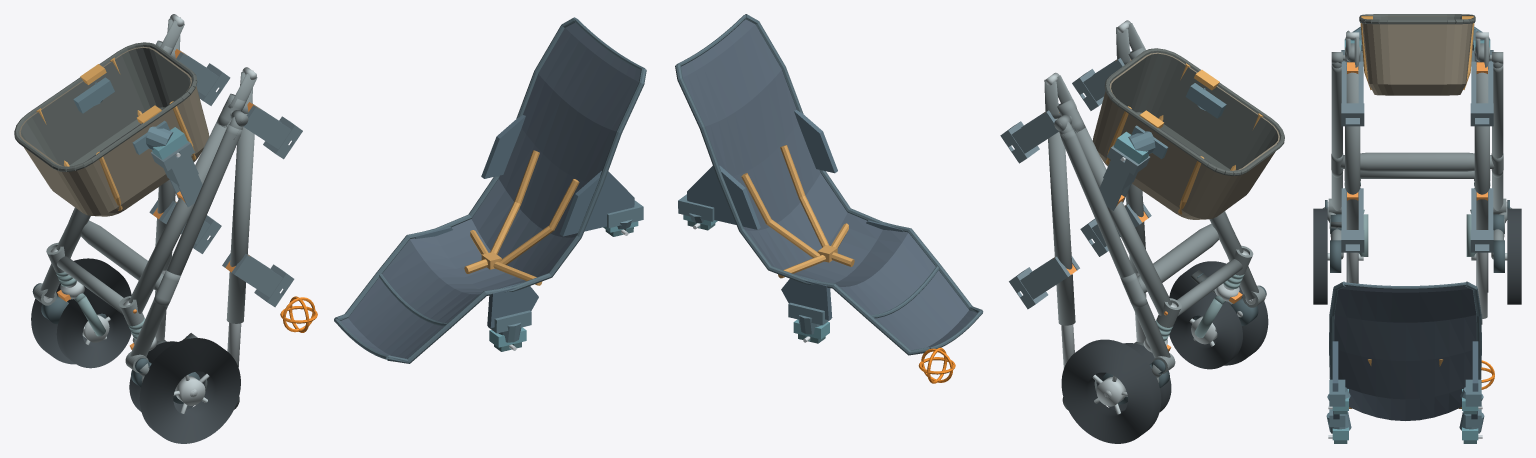
The model's file is D34_w380_state3_wheel_S.glb.
3 renders of one model, left to right at view 1: azimuth 30°, elevation 25°; view 2: azimuth 150°, elevation 25°; view 3: azimuth 270°, elevation 25°, orthographic. The views are drawn at different scales.
Parts seen in each view (by area): view 1: D34_Upper, D34_Lower, RL_tire.013, V46_rear_leg_-1, FR_tire.013, main_upper_-1.001, main_lower_-1.001, RR_tire.013, D34_Lower_Mount_L, Universal_Cabin_Receiver_H_-1, V46_rearbar, Universal_Cabin_Receiver_M_-1 (+11 smaller); view 2: D34_Upper, D34_Lower, RR_tire.013, V46_rear_leg_1, FL_tire.013, main_upper_1.001, main_lower_1.001, D34_Lower_Mount_L, RL_tire.013, Universal_Cabin_Receiver_H_1, V46_rearbar, Universal_Cabin_Receiver_M_1 (+11 smaller); view 3: D34_Upper, D34_Lower, V46_rearbar, main_upper_1.001, main_upper_-1.001, RL_tire.013, RR_tire.013, V46_rear_leg_1, V46_rear_leg_-1, D34_Upper_MidMount, D34_Upper_Mount_H, Universal_Cabin_Receiver_M_1 (+13 smaller).
Boxes of the visible parts, x1=… form: D34_Upper: x1=334, y1=17, x2=646, y2=363; D34_Lower: x1=14, y1=42, x2=209, y2=216; RL_tire.013: x1=139, y1=338, x2=240, y2=443; V46_rear_leg_-1: x1=130, y1=124, x2=242, y2=356; FR_tire.013: x1=56, y1=290, x2=131, y2=368; main_upper_-1.001: x1=226, y1=114, x2=254, y2=323; main_lower_-1.001: x1=129, y1=120, x2=231, y2=313; RR_tire.013: x1=31, y1=258, x2=131, y2=364; D34_Lower_Mount_L: x1=73, y1=77, x2=187, y2=159; Universal_Cabin_Receiver_H_-1: x1=222, y1=253, x2=294, y2=307; V46_rearbar: x1=81, y1=220, x2=163, y2=290; Universal_Cabin_Receiver_M_-1: x1=243, y1=104, x2=302, y2=159; D34_Upper: x1=675, y1=14, x2=983, y2=355; D34_Lower: x1=1092, y1=48, x2=1284, y2=219; RR_tire.013: x1=1061, y1=339, x2=1161, y2=443; V46_rear_leg_1: x1=1060, y1=129, x2=1170, y2=357; FL_tire.013: x1=1169, y1=292, x2=1242, y2=369; main_upper_1.001: x1=1048, y1=118, x2=1075, y2=325; main_lower_1.001: x1=1071, y1=124, x2=1171, y2=315; D34_Lower_Mount_L: x1=1113, y1=83, x2=1226, y2=163; RL_tire.013: x1=1169, y1=261, x2=1268, y2=365; Universal_Cabin_Receiver_H_1: x1=1009, y1=256, x2=1079, y2=309; V46_rearbar: x1=1137, y1=223, x2=1218, y2=293; Universal_Cabin_Receiver_M_1: x1=1000, y1=103, x2=1058, y2=163; D34_Upper: x1=1329, y1=281, x2=1481, y2=420; D34_Lower: x1=1359, y1=14, x2=1475, y2=95; V46_rearbar: x1=1340, y1=152, x2=1494, y2=171; main_upper_1.001: x1=1474, y1=70, x2=1489, y2=229; main_upper_-1.001: x1=1345, y1=70, x2=1360, y2=229; RL_tire.013: x1=1313, y1=208, x2=1327, y2=304; RR_tire.013: x1=1507, y1=208, x2=1521, y2=304; V46_rear_leg_1: x1=1492, y1=65, x2=1503, y2=210; V46_rear_leg_-1: x1=1331, y1=65, x2=1342, y2=210; D34_Upper_MidMount: x1=1326, y1=409, x2=1484, y2=443; D34_Upper_Mount_H: x1=1327, y1=379, x2=1483, y2=414; Universal_Cabin_Receiver_M_1: x1=1470, y1=61, x2=1493, y2=126.
Size of the model in its own units: 1.22 by 0.7026 by 0.434.
